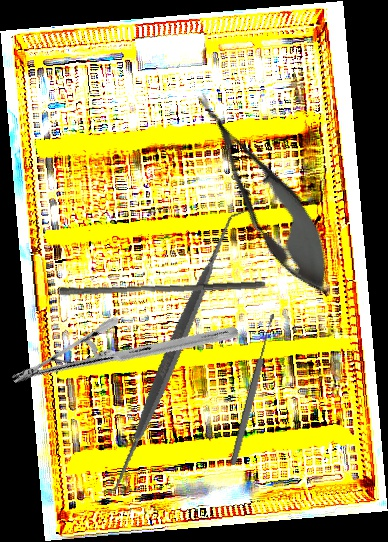Micro Scissor: (175, 79, 353, 308)
Needle Holder: (9, 243, 241, 467)
Pusher: (58, 272, 267, 304)
Spatula Surgical: (35, 208, 314, 495)
Surgical Spoon: (228, 312, 278, 467)
